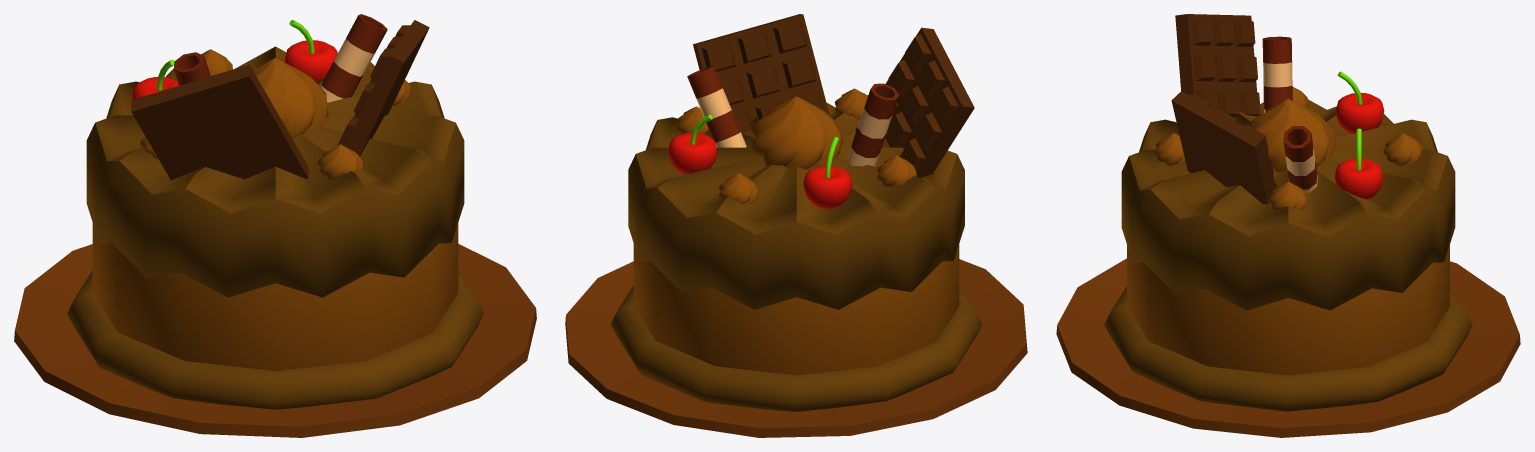
File: Cake_01_Chocolate.fbx
The picture shows the model from 3 angles, left to right: view 1: azimuth 30°, elevation 25°; view 2: azimuth 150°, elevation 25°; view 3: azimuth 270°, elevation 25°; orthographic projection. The views are drawn at different scales.
Visible parts, largest first — view 1: Cake_01_Chocolate; view 2: Cake_01_Chocolate; view 3: Cake_01_Chocolate.
Part boxes in pixels (x1=…): Cake_01_Chocolate: x1=14, y1=14, x2=536, y2=437; Cake_01_Chocolate: x1=565, y1=14, x2=1027, y2=437; Cake_01_Chocolate: x1=1056, y1=14, x2=1520, y2=437.
Bounding box in the file's own units: 88.35 × 64.66 × 88.35.
